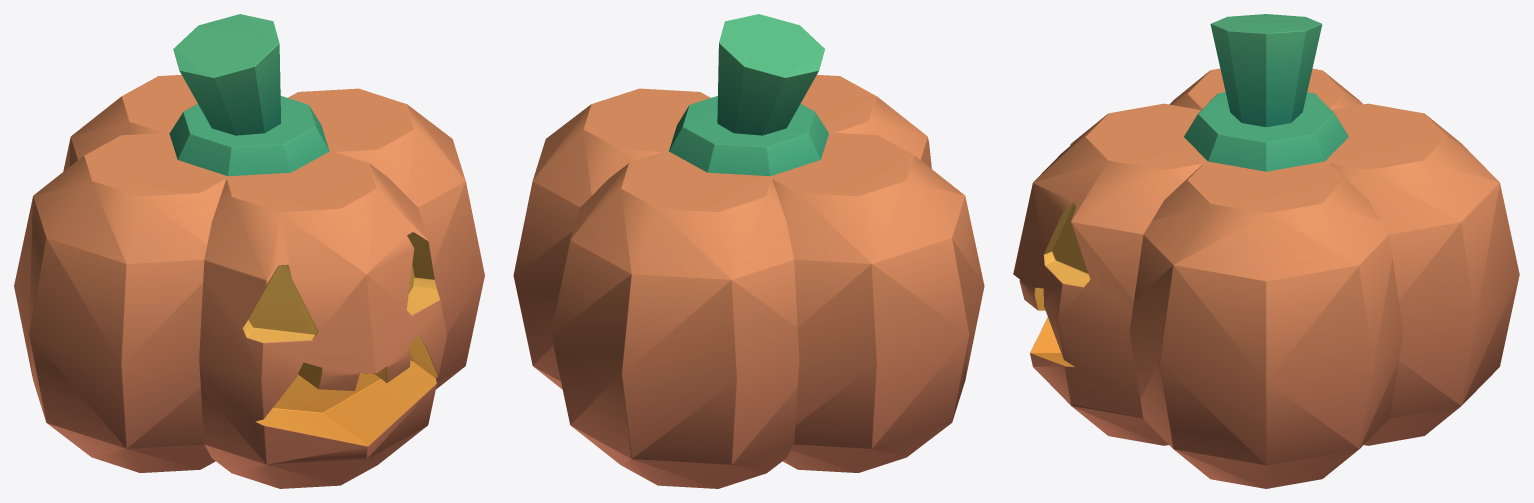
The model's file is kenney-graveyard__pumpkin-carved.glb.
3 views of the same model, side by side, from view 1: azimuth 30°, elevation 25°; view 2: azimuth 150°, elevation 25°; view 3: azimuth 270°, elevation 25° (orthographic).
Visible parts, largest first — view 1: pumpkin-carved; view 2: pumpkin-carved; view 3: pumpkin-carved.
Part boxes in pixels (x1,y1,x2,y2): pumpkin-carved: (14,14,484,488); pumpkin-carved: (513,14,984,488); pumpkin-carved: (1013,14,1519,488).
Bounding box in the file's own units: 0.3772 × 0.3211 × 0.3771.
1 material, 1 textured.
